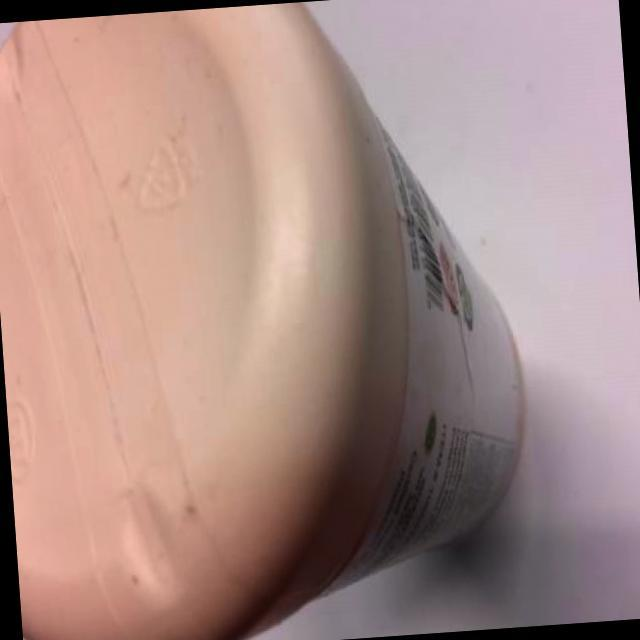HDPE Plastic: (1, 2, 531, 638)
